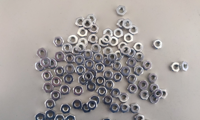nut: (73, 85, 84, 96), (35, 61, 46, 72), (37, 48, 48, 59), (152, 39, 163, 50), (170, 62, 181, 73), (116, 5, 127, 16), (87, 100, 98, 111), (91, 43, 102, 54), (84, 59, 95, 70), (75, 65, 86, 76), (65, 53, 76, 64), (62, 43, 73, 54), (68, 34, 79, 45), (88, 34, 99, 45), (63, 74, 75, 84), (83, 72, 95, 82), (76, 42, 86, 54), (45, 99, 56, 109), (51, 90, 61, 101), (43, 83, 54, 93), (60, 85, 71, 95), (72, 100, 83, 110), (51, 77, 62, 87), (42, 71, 53, 81), (41, 57, 51, 68), (47, 58, 57, 69), (55, 66, 66, 76), (130, 104, 141, 114), (127, 84, 138, 94), (120, 103, 130, 114), (103, 96, 114, 106), (111, 88, 122, 98), (148, 73, 159, 83), (143, 60, 153, 71), (113, 72, 123, 83), (97, 87, 108, 97), (103, 70, 114, 80), (121, 46, 132, 56), (108, 52, 118, 63), (124, 33, 134, 44), (109, 36, 119, 47), (95, 76, 106, 86), (94, 53, 104, 64), (75, 55, 85, 66), (71, 46, 82, 56), (55, 52, 66, 62), (54, 37, 65, 47), (85, 59, 95, 70), (78, 37, 89, 47), (83, 19, 94, 29), (46, 110, 56, 120), (61, 104, 71, 114), (110, 103, 120, 113), (119, 93, 129, 103), (150, 94, 160, 104), (139, 81, 149, 91), (134, 66, 144, 76), (135, 52, 145, 62), (121, 66, 131, 76), (127, 74, 137, 84), (105, 80, 115, 90), (114, 28, 124, 38), (129, 25, 139, 35), (123, 19, 133, 29), (102, 34, 112, 44), (87, 82, 97, 92), (95, 62, 105, 72), (79, 75, 89, 85), (65, 64, 75, 74), (89, 24, 99, 34), (78, 27, 88, 37), (76, 17, 86, 27), (84, 50, 94, 60), (112, 62, 123, 71), (180, 62, 189, 72), (154, 89, 163, 99), (140, 91, 150, 100), (127, 58, 137, 67), (134, 43, 144, 52), (115, 51, 124, 61), (103, 47, 113, 56), (118, 42, 128, 51), (104, 28, 113, 38), (117, 19, 127, 28), (99, 38, 109, 47), (103, 58, 113, 67), (82, 104, 92, 113), (90, 95, 100, 104), (87, 14, 97, 23), (159, 90, 168, 99), (88, 69, 97, 78), (128, 48, 136, 58), (35, 113, 46, 120), (150, 84, 159, 92), (135, 114, 145, 120), (66, 115, 76, 120), (55, 115, 65, 120), (102, 118, 113, 120)
